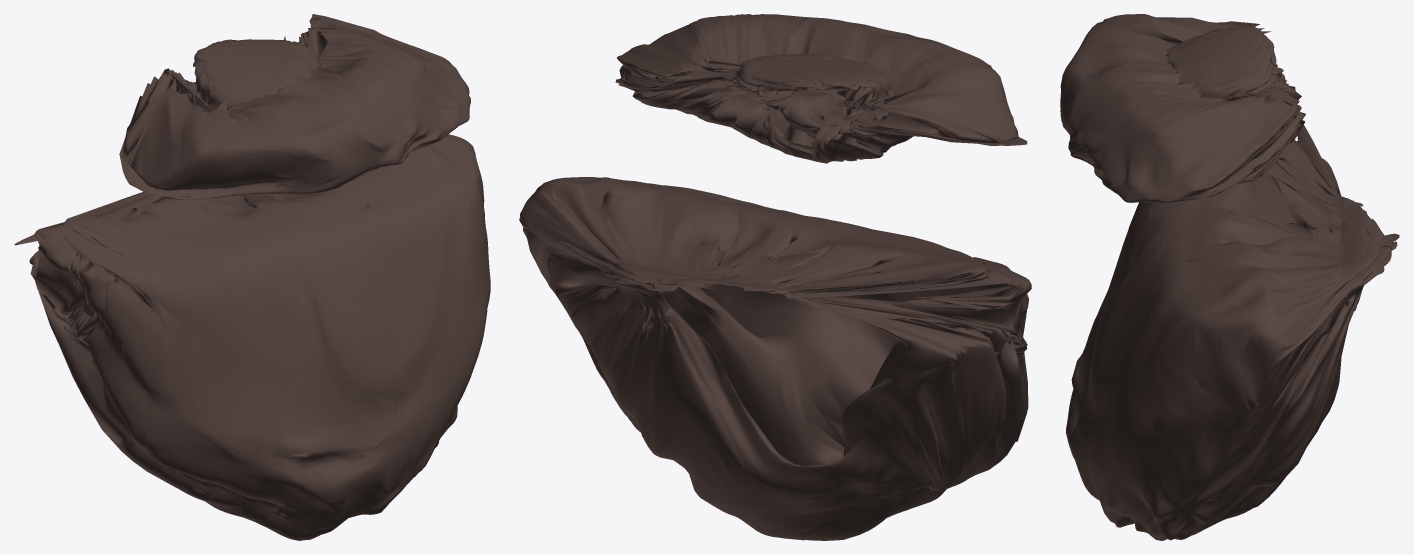
3 renders of one model, left to right at view 1: azimuth 30°, elevation 25°; view 2: azimuth 150°, elevation 25°; view 3: azimuth 270°, elevation 25°, orthographic. The views are drawn at different scales.
Visible parts, largest first — view 1: Beard.001; view 2: Beard.001; view 3: Beard.001.
Part boxes in pixels (<box>): Beard.001: <box>14,14,490,540</box>; Beard.001: <box>519,14,1031,540</box>; Beard.001: <box>1060,14,1399,540</box>.
Bounding box in the file's own units: 0.1951 × 0.1883 × 0.1271.
